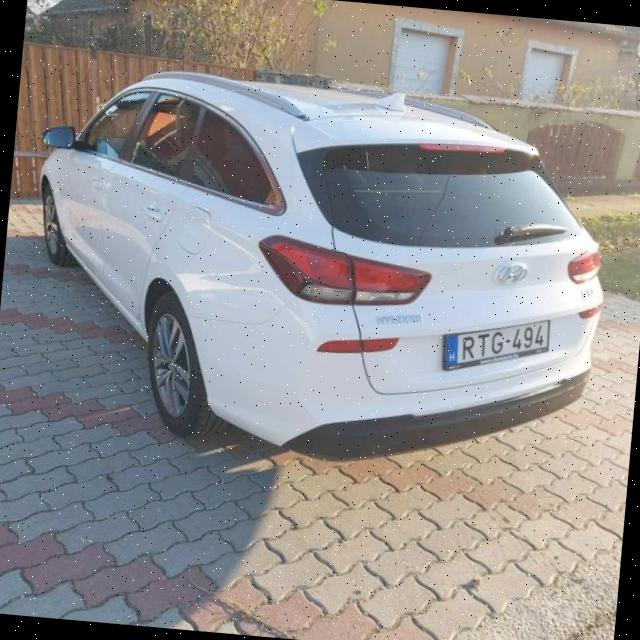licence: (442, 308, 553, 379)
